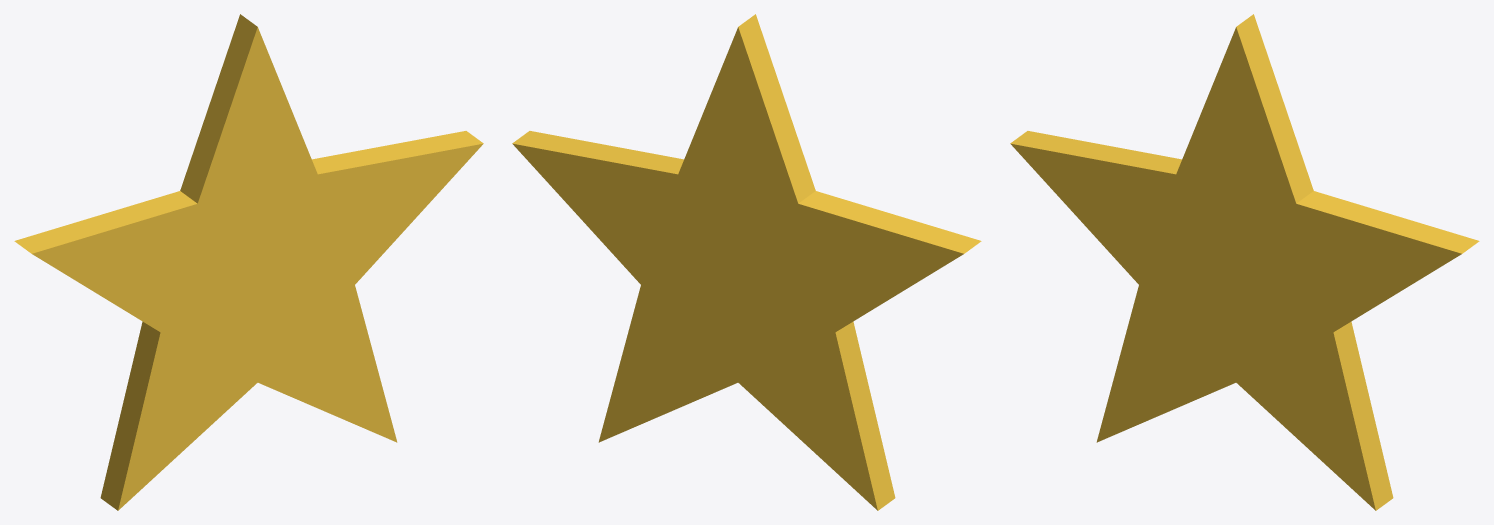
File: status-stunned.glb
3 renders of one model, left to right at view 1: azimuth 30°, elevation 25°; view 2: azimuth 150°, elevation 25°; view 3: azimuth 330°, elevation 25°, orthographic.
Visible parts, largest first — view 1: status-stunned; view 2: status-stunned; view 3: status-stunned.
Part boxes in pixels (x1,y1,x2,y2): status-stunned: (14, 14, 483, 510); status-stunned: (512, 14, 981, 510); status-stunned: (1010, 14, 1479, 510).
Size of the model in its own units: 0.8179 by 0.7779 by 0.055.
